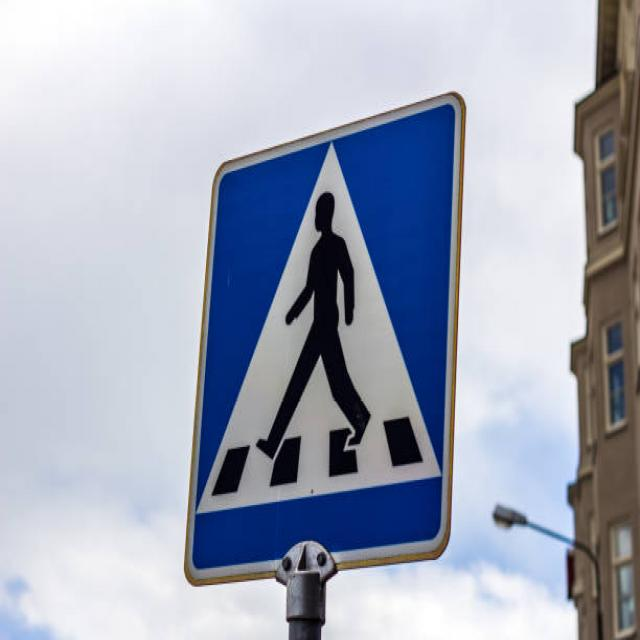crosswalk: (176, 87, 473, 574)
